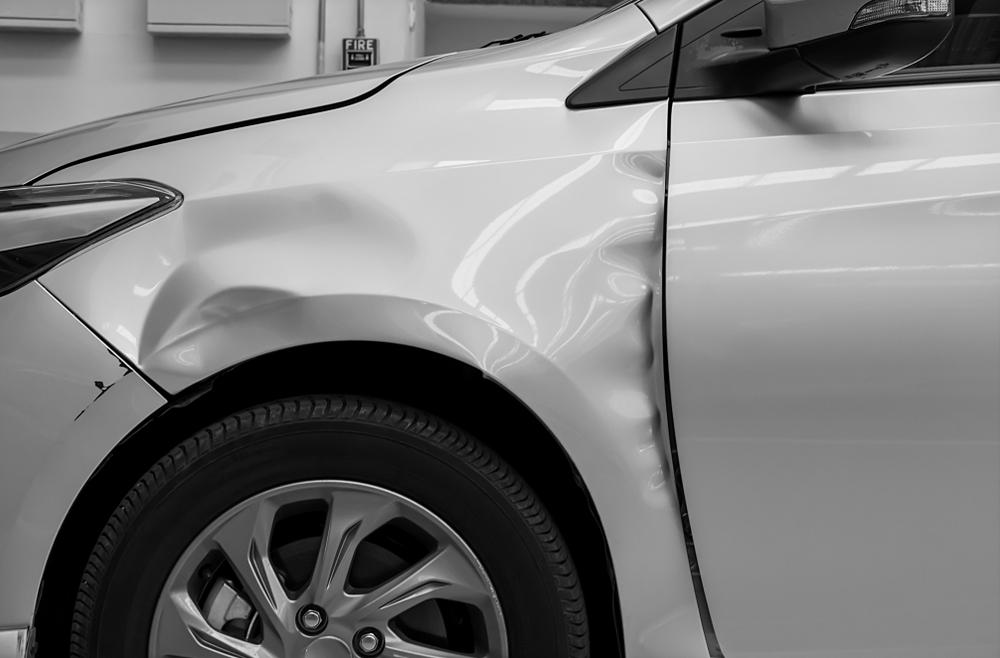dent: (140, 183, 410, 384), (604, 141, 676, 493)
scratch: (69, 341, 139, 426)
